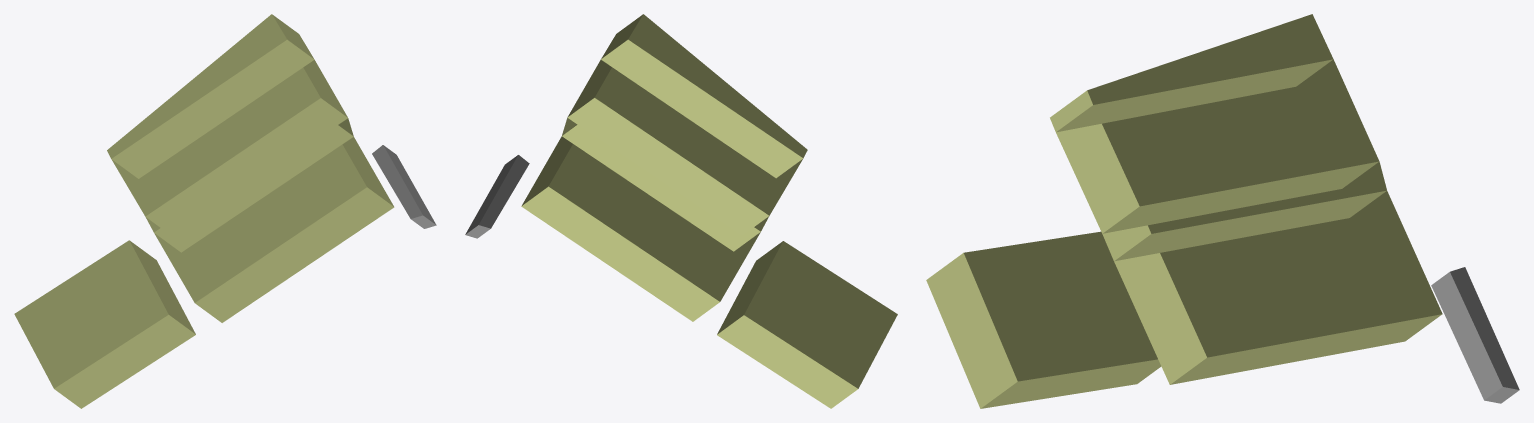
3 renders of one model, left to right at view 1: azimuth 30°, elevation 25°; view 2: azimuth 150°, elevation 25°; view 3: azimuth 330°, elevation 25°, orthographic. The views are drawn at different scales.
Visible parts, largest first — view 1: 0_2_3_2_1_2_3_1_3; view 2: 0_2_3_2_1_2_3_1_3; view 3: 0_2_3_2_1_2_3_1_3.
Boxes of the visible parts, box(x1,y1,x2,y2) form: 0_2_3_2_1_2_3_1_3: box(14, 14, 436, 408); 0_2_3_2_1_2_3_1_3: box(465, 14, 897, 408); 0_2_3_2_1_2_3_1_3: box(926, 14, 1519, 408).
Size of the model in its own units: 51.58 by 39 by 6.23.
